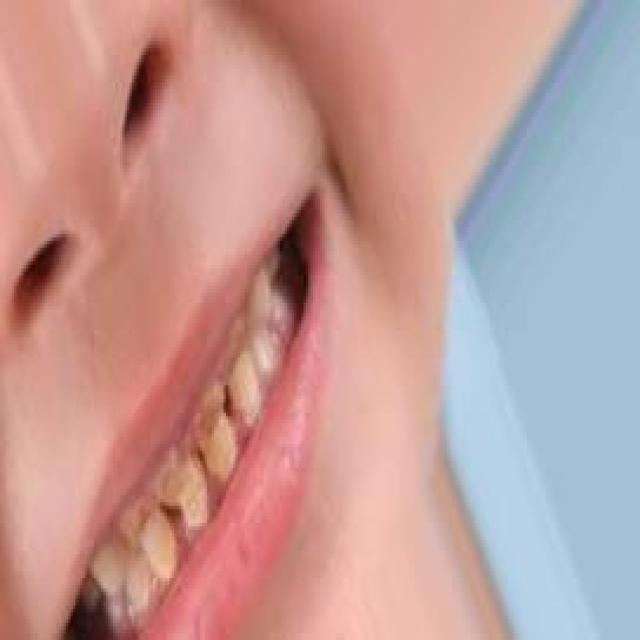caries: (111, 492, 157, 552), (192, 377, 227, 450), (153, 446, 192, 505), (217, 318, 252, 377)
